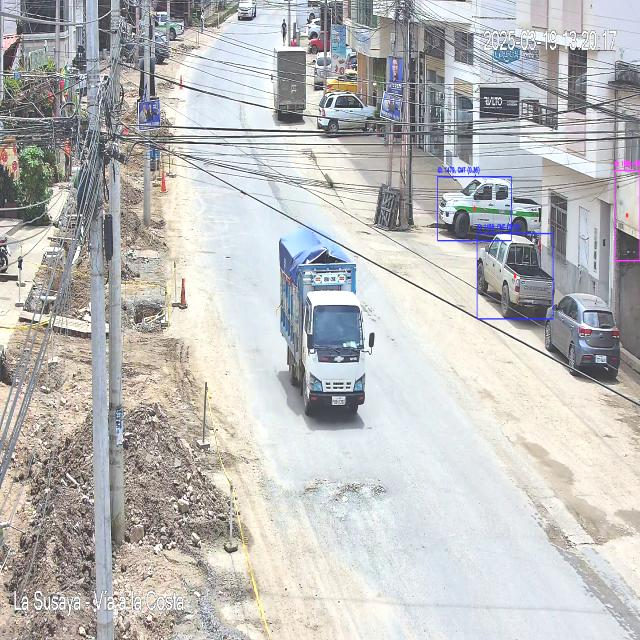TRUCK: (276, 228, 372, 422)
